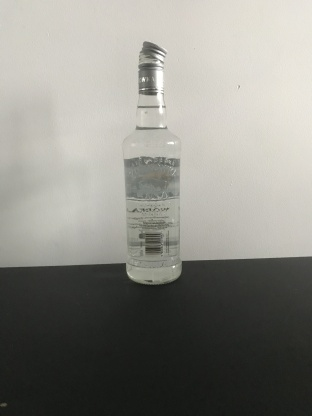nakretka: (136, 38, 168, 96), (135, 38, 136, 88)
